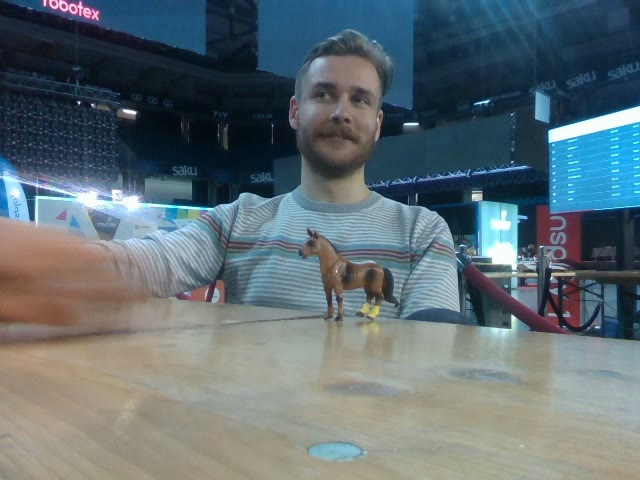toy: (294, 223, 401, 326)
